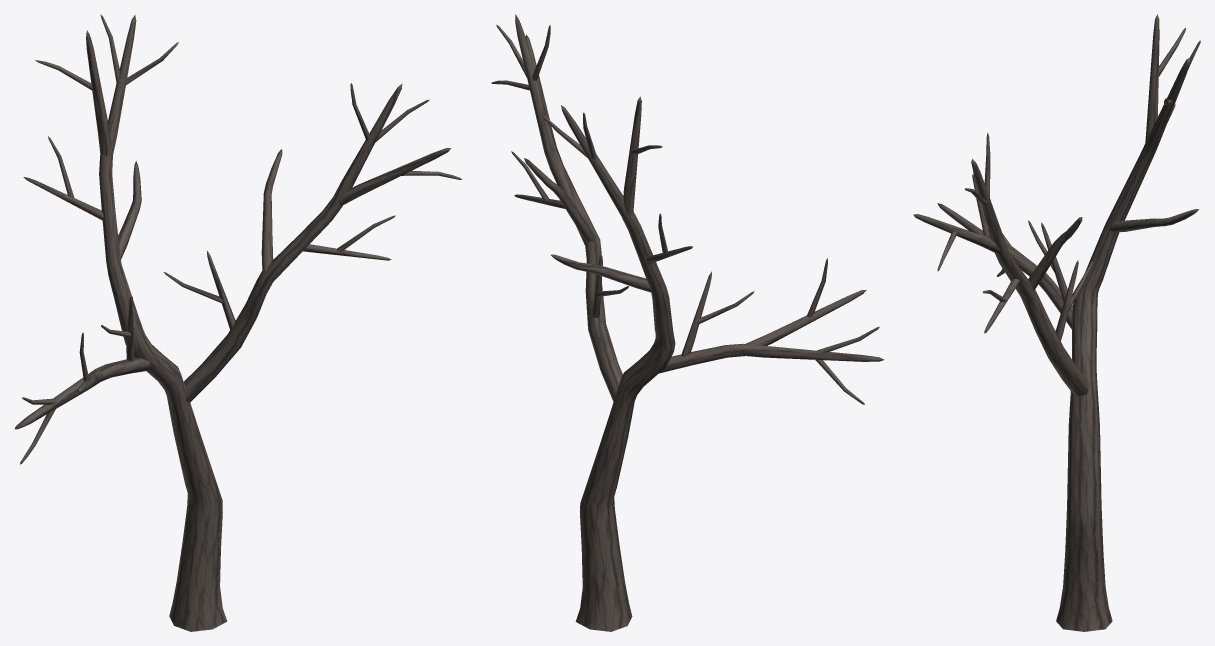
Rendered from dead_1.glb.
3 renders of one model, left to right at view 1: azimuth 30°, elevation 25°; view 2: azimuth 150°, elevation 25°; view 3: azimuth 270°, elevation 25°, orthographic. The views are drawn at different scales.
Parts seen in each view (by area): view 1: DeadTree_10; view 2: DeadTree_10; view 3: DeadTree_10.
Boxes of the visible parts, bbox=[...] form: DeadTree_10: bbox=[15, 14, 461, 631]; DeadTree_10: bbox=[491, 14, 884, 631]; DeadTree_10: bbox=[913, 14, 1200, 631].
Bounding box in the file's own units: 5.46 × 7.13 × 3.24.
1 material, 1 textured.
